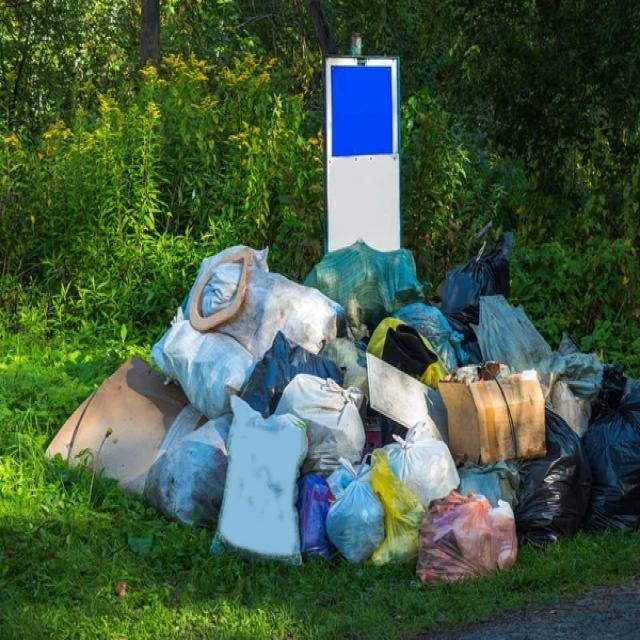high trash: (48, 236, 640, 581)
